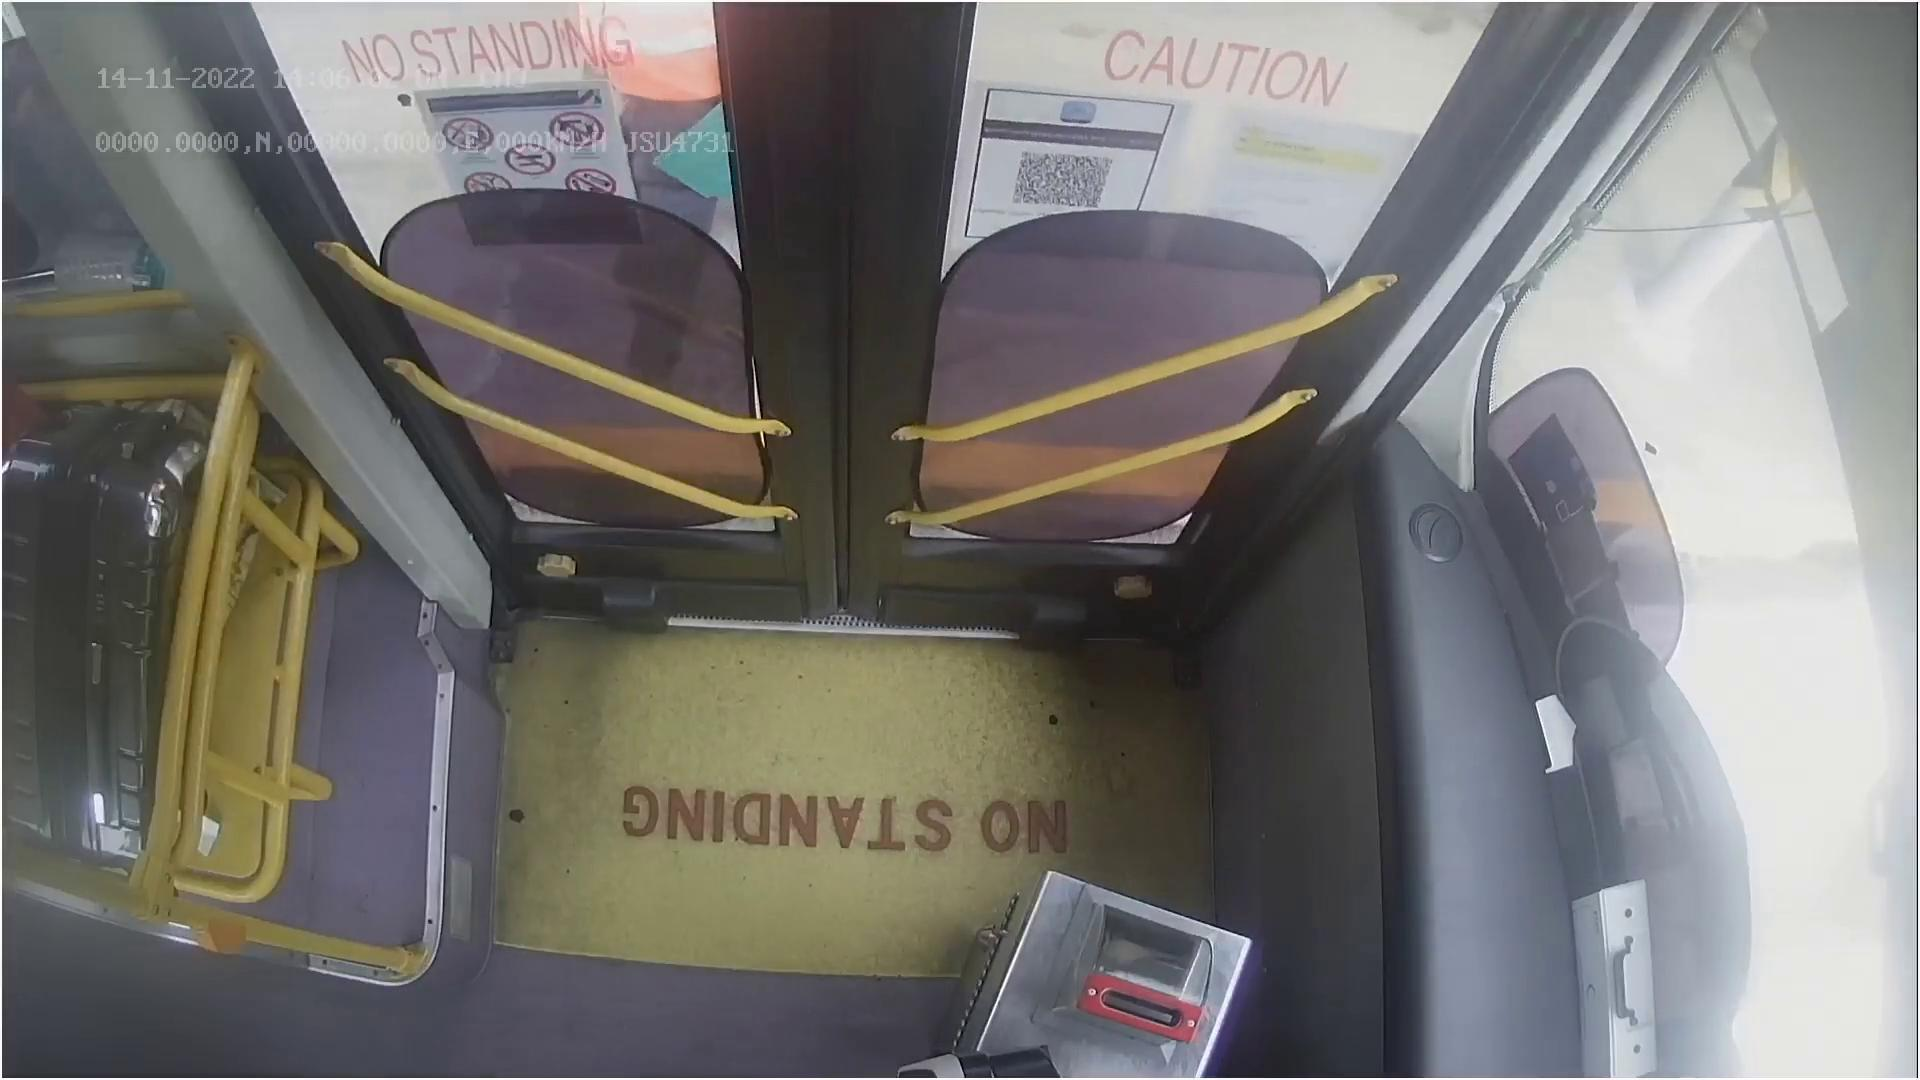close: (278, 0, 1451, 160)
